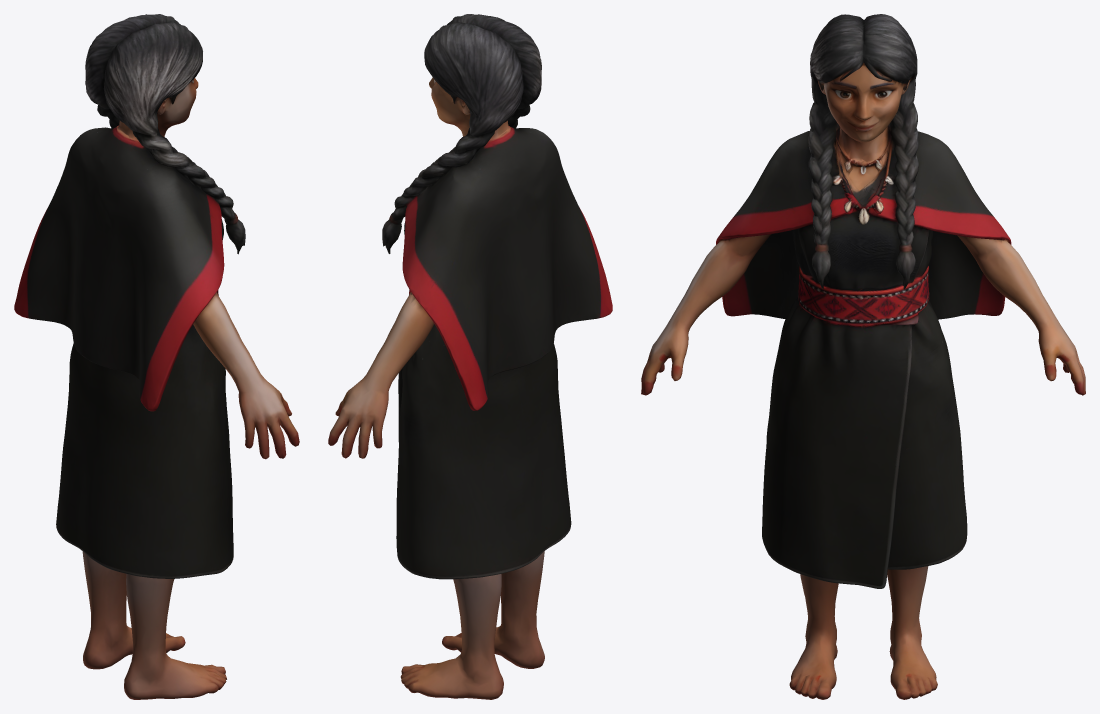
Rendered from millaray-modelo-sin-esqueleto.glb.
The picture shows the model from 3 angles, left to right: view 1: azimuth 30°, elevation 25°; view 2: azimuth 150°, elevation 25°; view 3: azimuth 270°, elevation 25°; orthographic projection.
Visible parts, largest first — view 1: tripo_node_15c927cb-057c-4235-8c29-0b9a977f3e84; view 2: tripo_node_15c927cb-057c-4235-8c29-0b9a977f3e84; view 3: tripo_node_15c927cb-057c-4235-8c29-0b9a977f3e84.
Boxes of the visible parts, x1,y1,x2,y2 form: tripo_node_15c927cb-057c-4235-8c29-0b9a977f3e84: (14,14,299,699); tripo_node_15c927cb-057c-4235-8c29-0b9a977f3e84: (328,14,612,699); tripo_node_15c927cb-057c-4235-8c29-0b9a977f3e84: (641,14,1085,699).
Bounding box in the file's own units: 0.2317 × 1 × 0.6142.
1 material, 1 textured.
